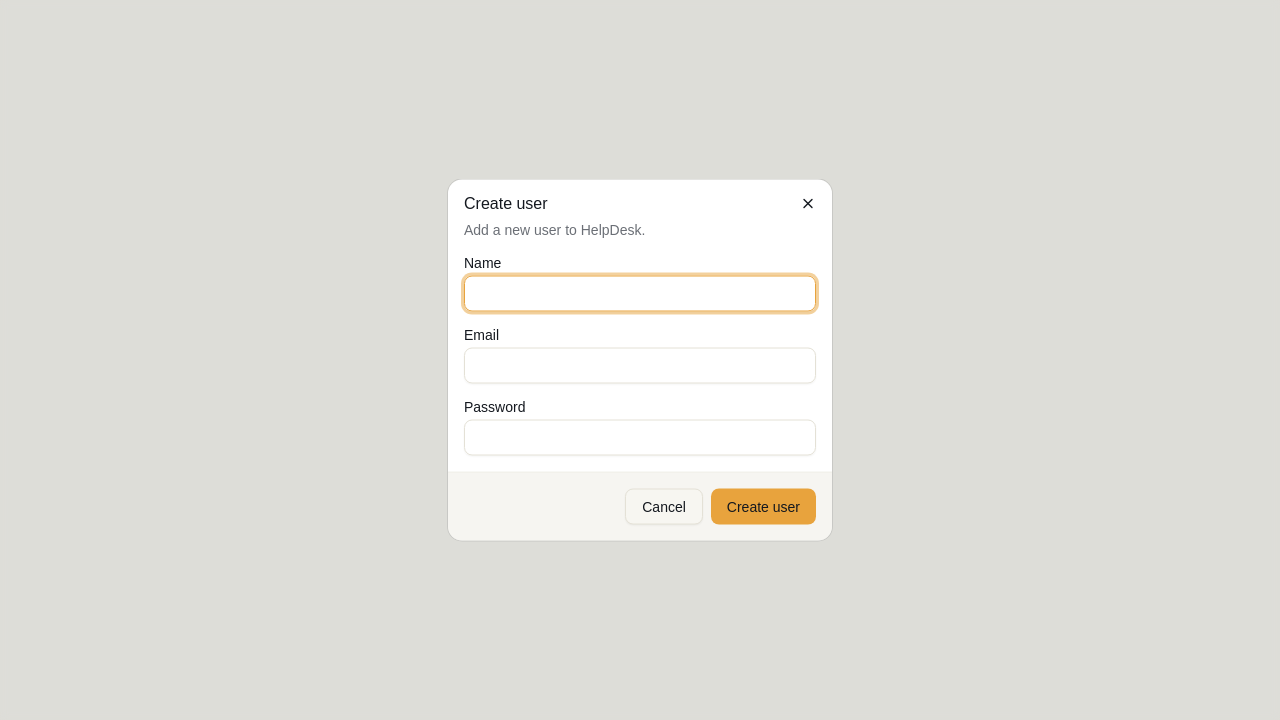
UserFormModal — create mode › shows a conflict message and keeps the modal open when the email is already taken
The image size is (1280, 720).
Step 1. Type "Jane Doe" into the field labelled "Name" → (640, 294), box [464, 276, 816, 312]
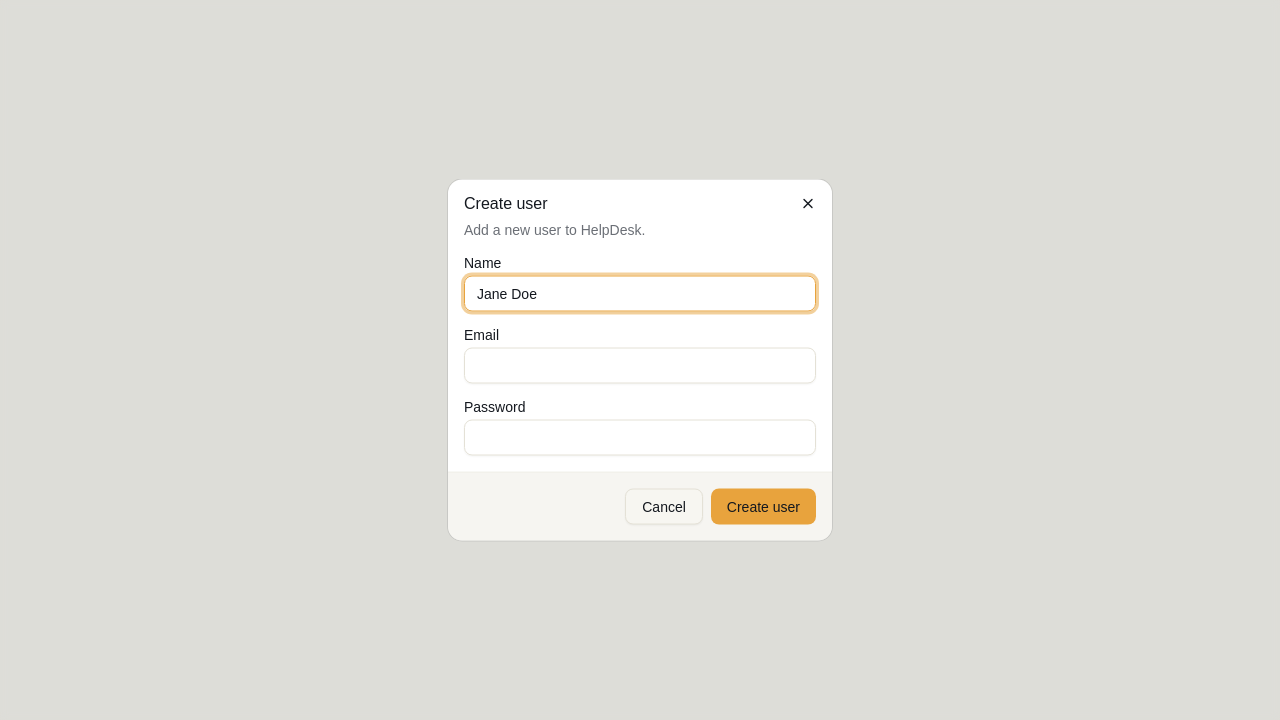
Step 2. Type "jane@test.local" into the field labelled "Email" → (640, 366), box [464, 348, 816, 384]
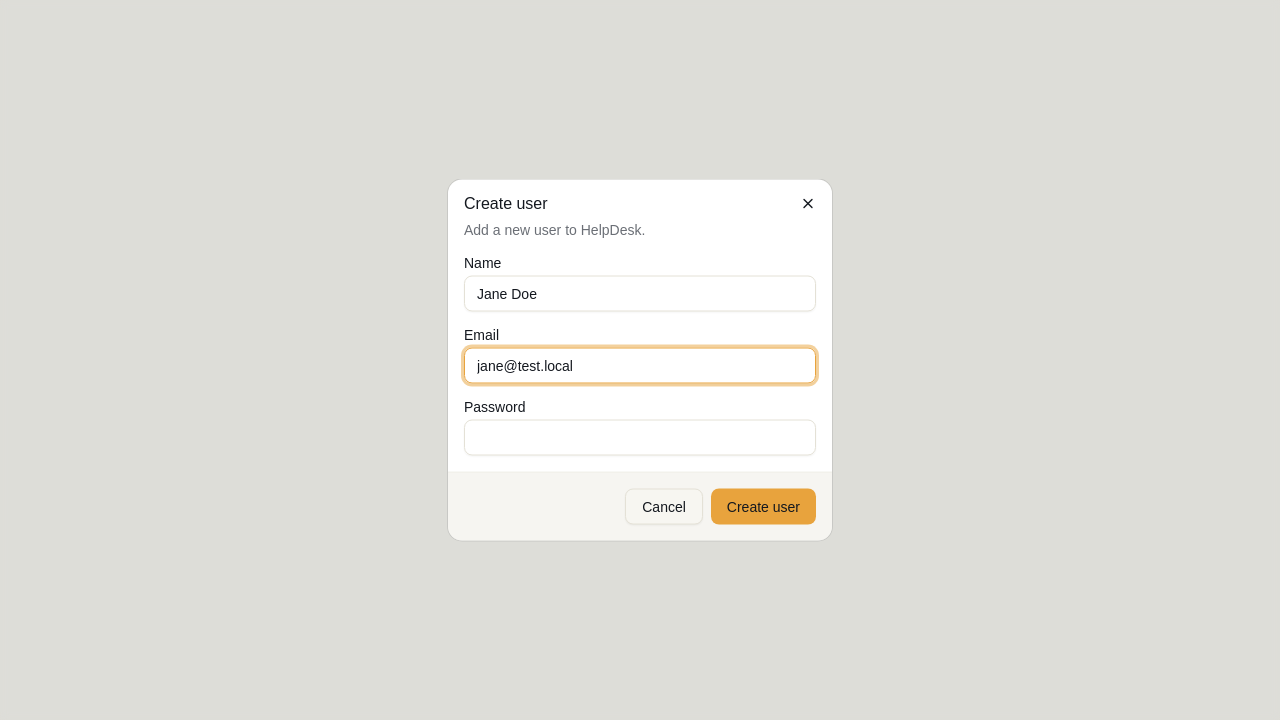
Step 3. Type "password123" into the password field labelled "Password" → (640, 438), box [464, 420, 816, 456]
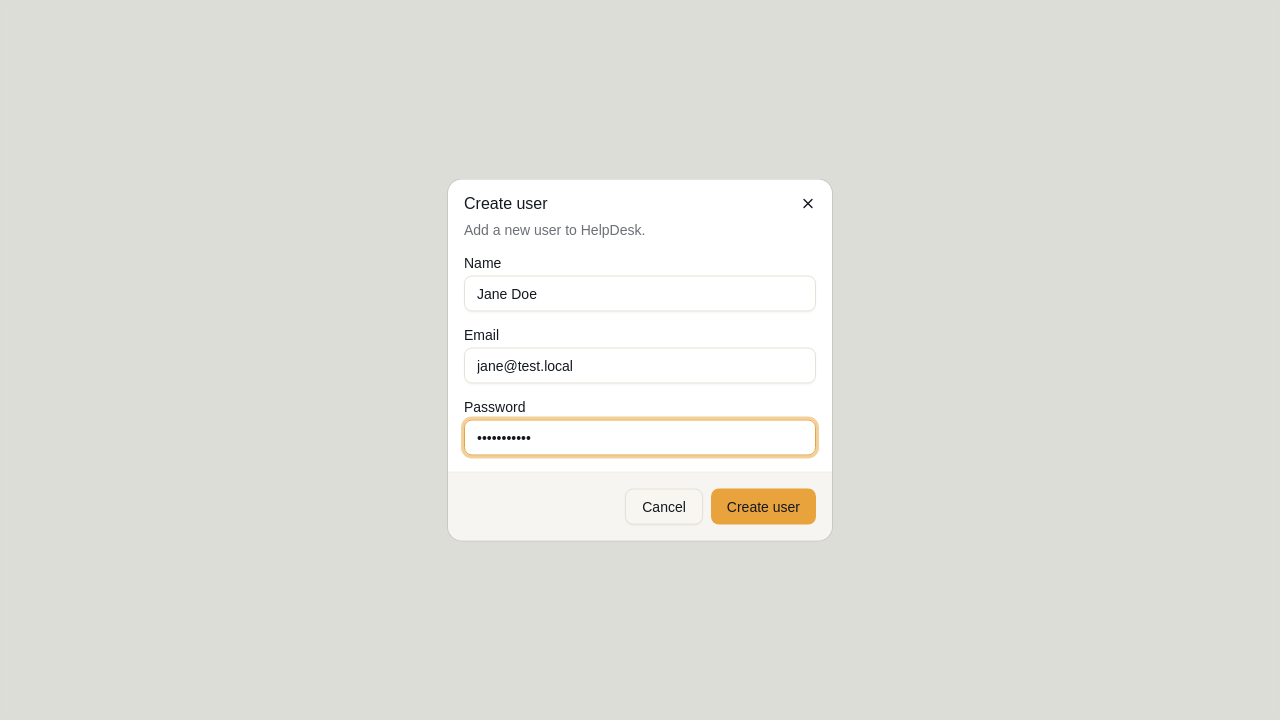
Step 4. Click the button "Create user" → (763, 506), box [711, 488, 816, 524]
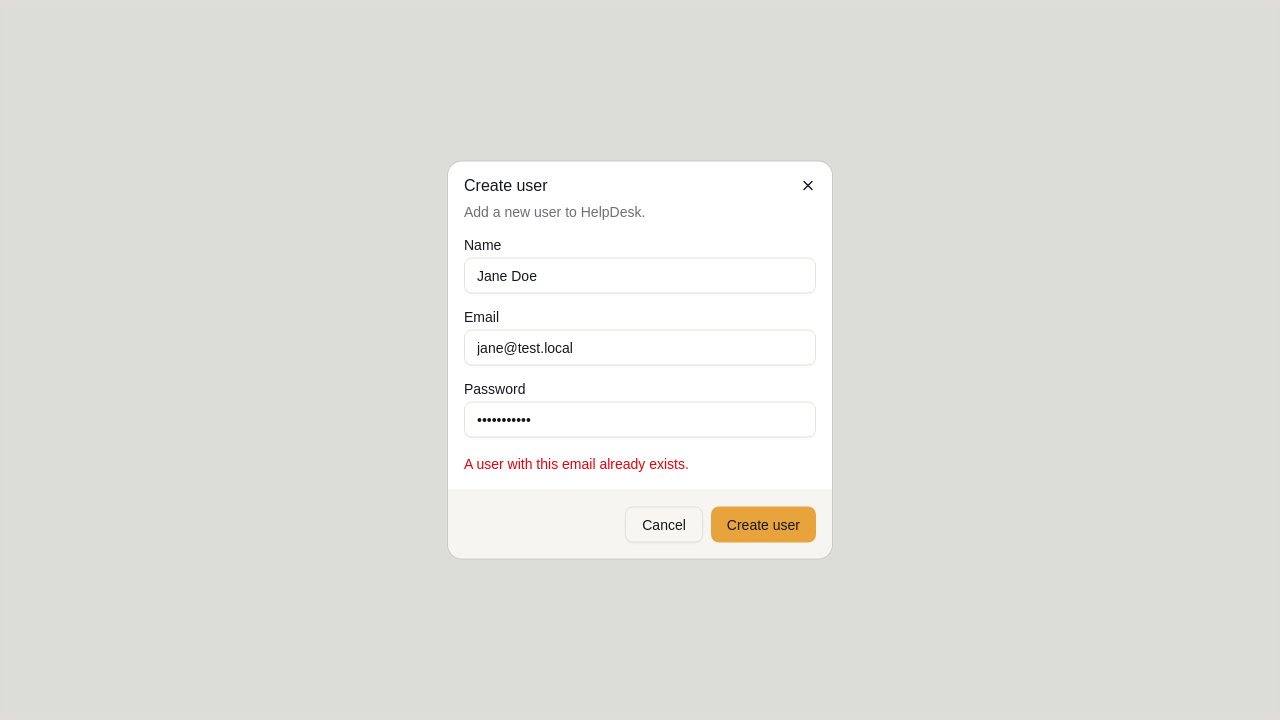
Now the text "A user with this email already exists." is shown, box [464, 456, 689, 472]
